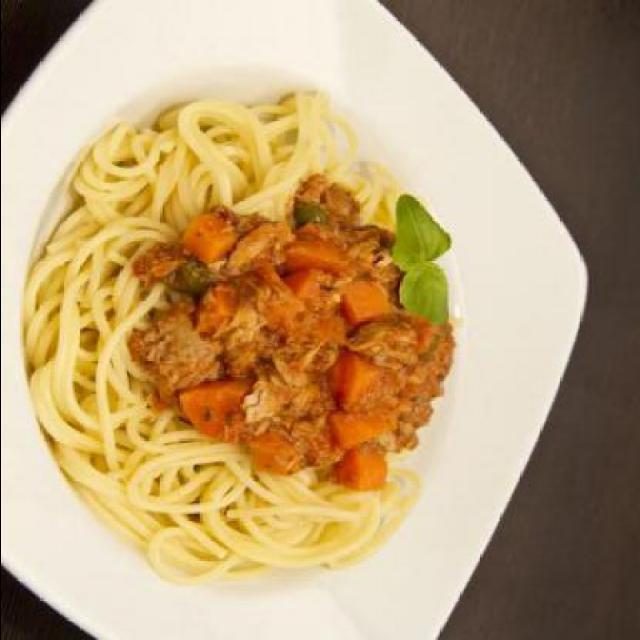Pasta al ragu: (32, 98, 510, 574)
